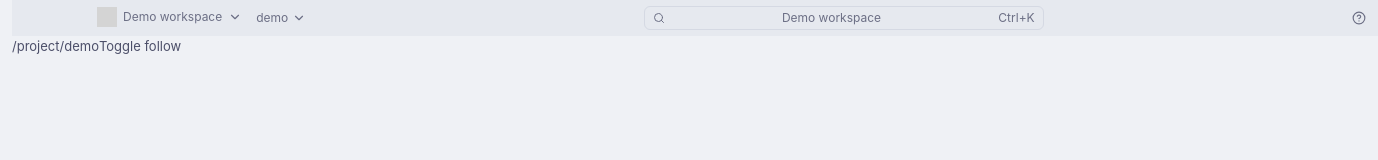
Test case: uses the saved follow preference when selecting a project with the Herdr sidebar closed: {"initial":true,"toggle":false}
This screenshot has width=1378, height=160.
Click the dropdown named "切换项目": [170, 16] box [92,4,247,28]
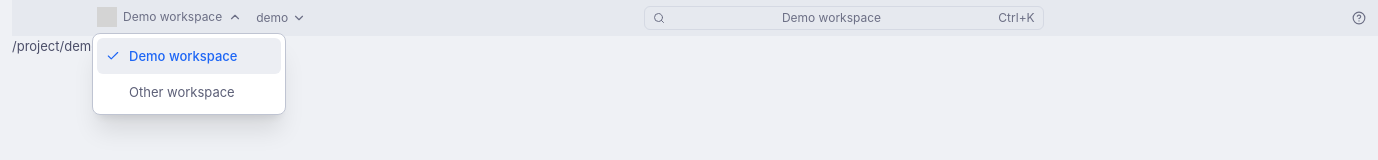
Click the option "Other workspace": [171, 92] box [97,74,246,110]
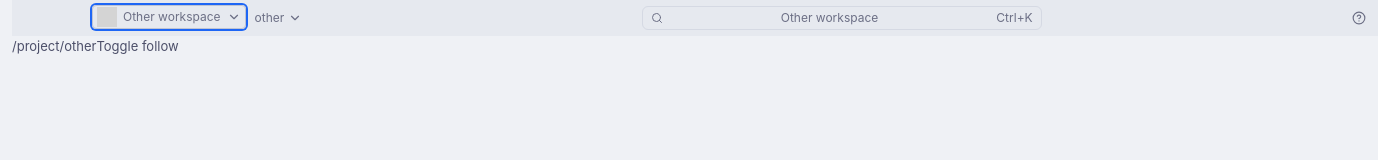
Expected: the text "/project/other" is shown, [12,38,96,54]
